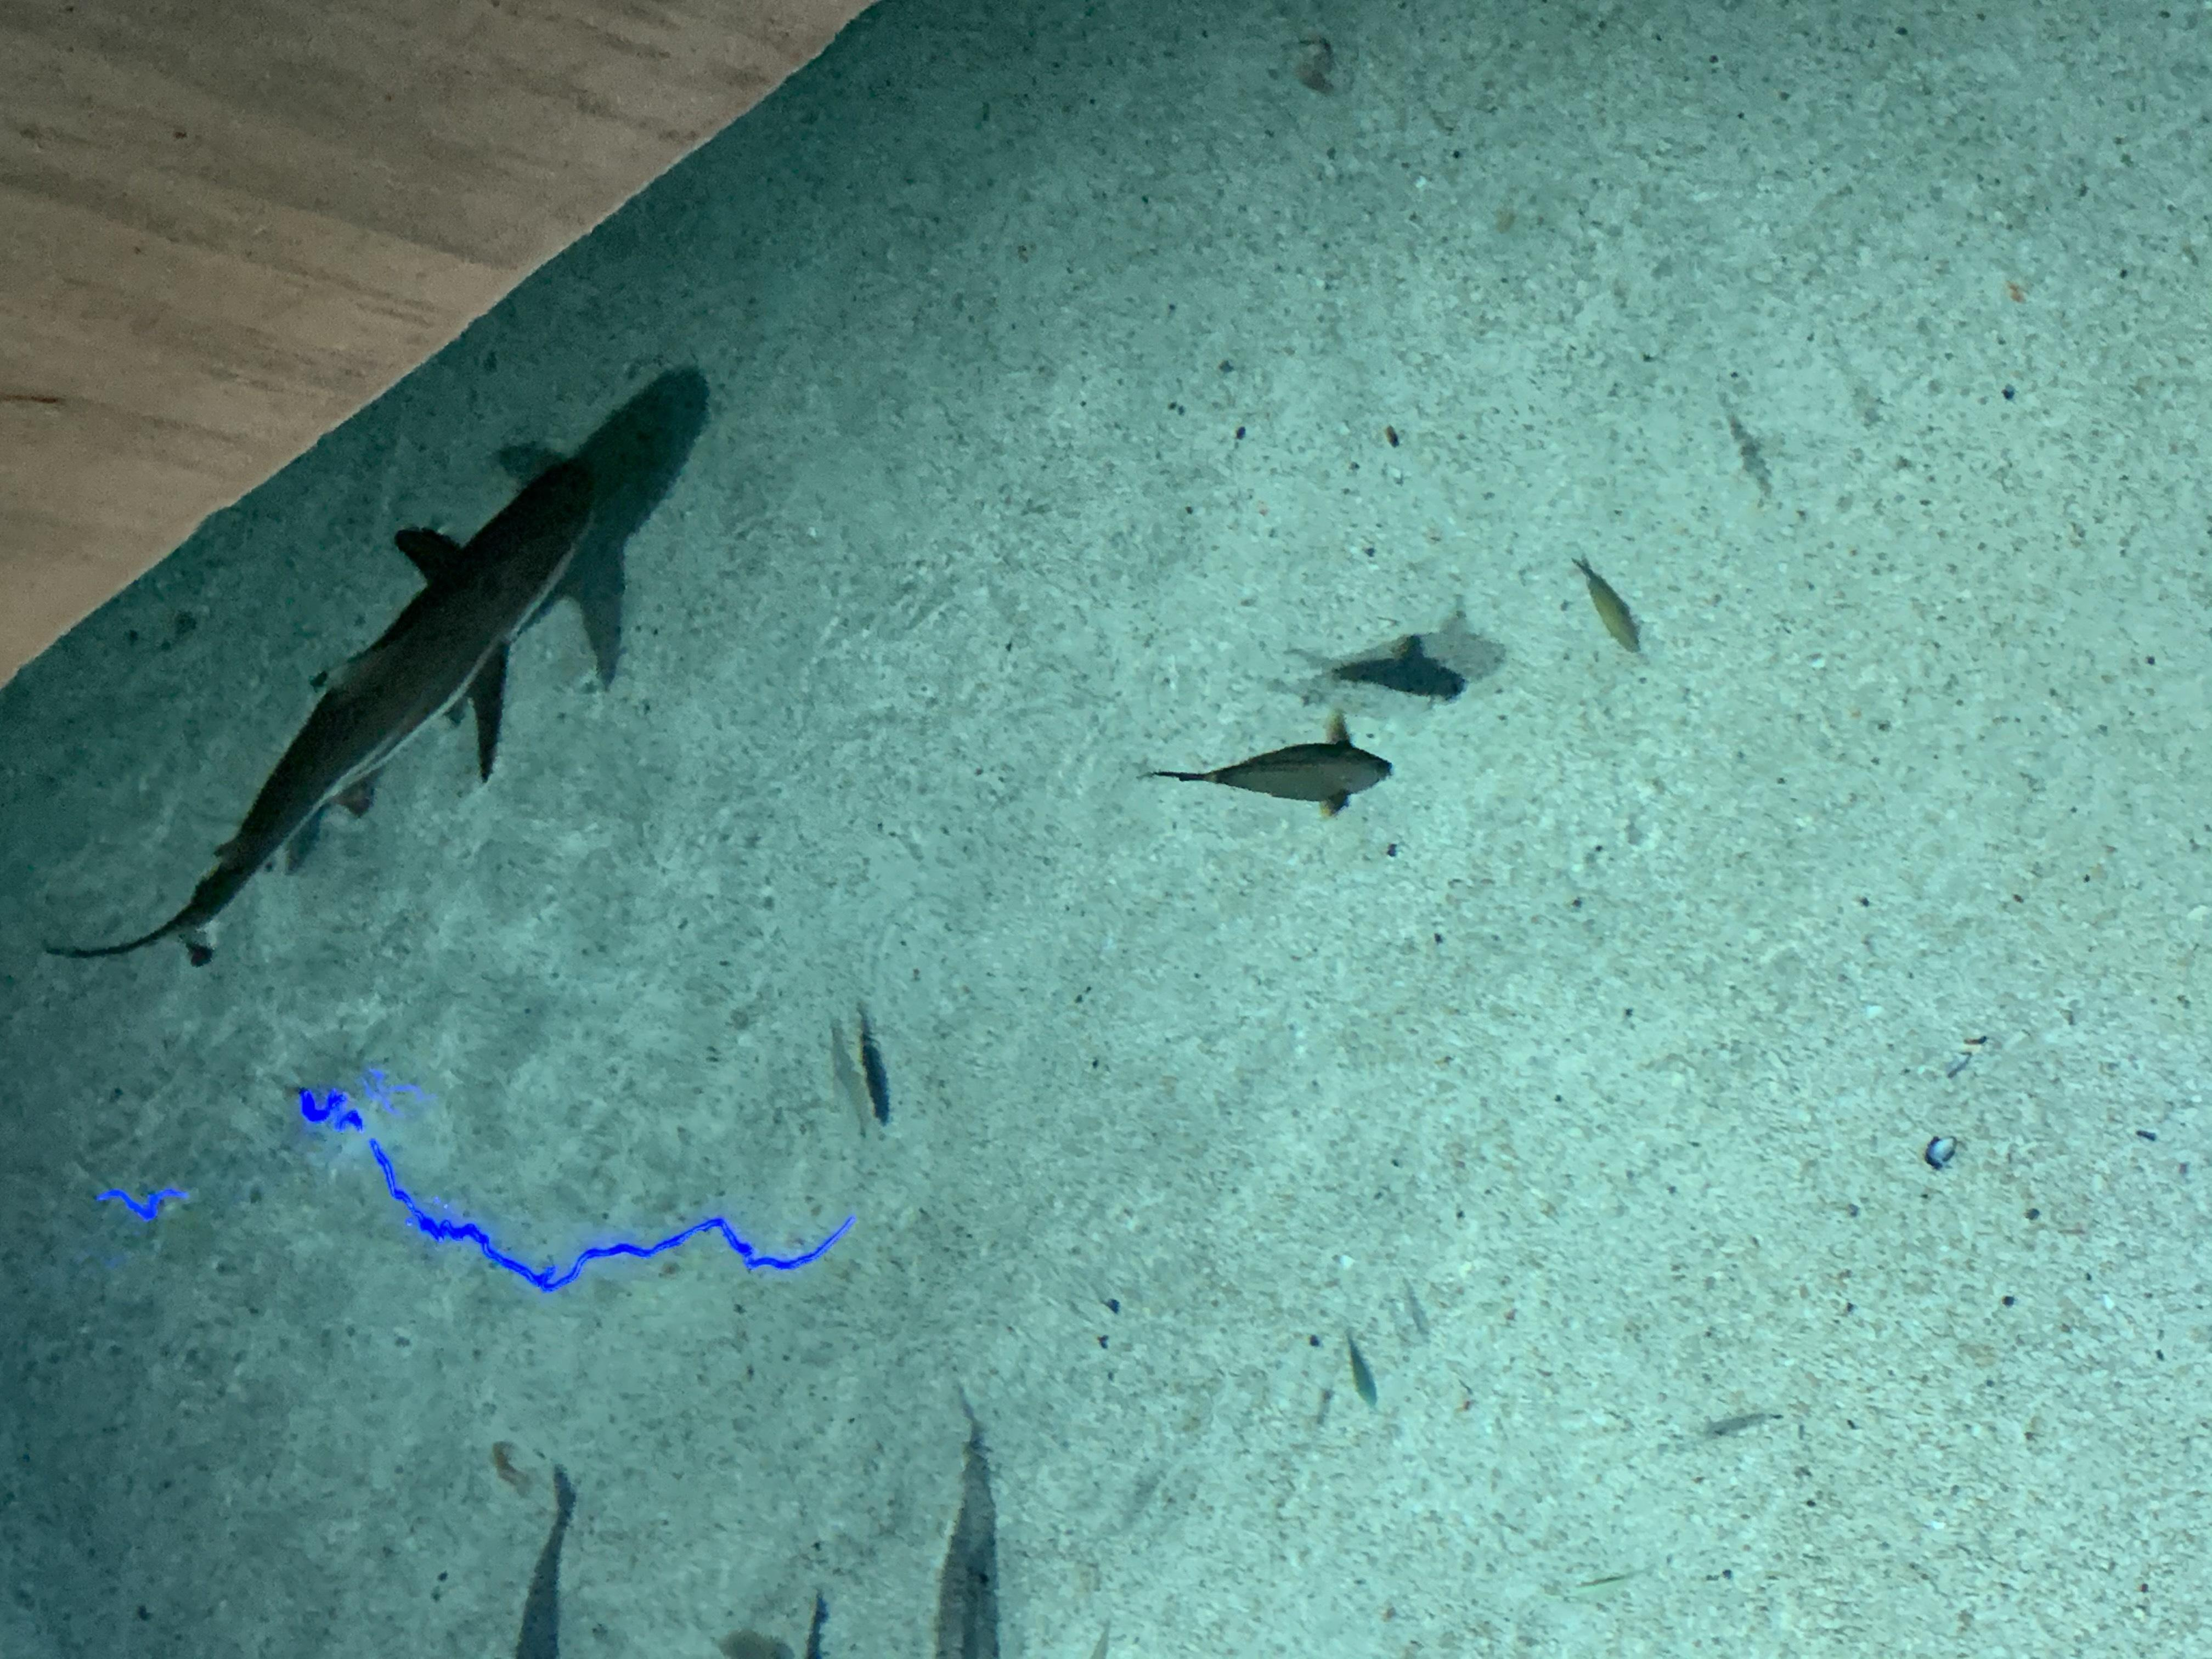fish: (1136, 737, 1392, 830), (927, 1396, 1014, 1656), (496, 1466, 597, 1659), (1306, 636, 1474, 711), (834, 1002, 909, 1150), (1566, 554, 1656, 662), (1719, 389, 1791, 504), (1334, 1324, 1390, 1420), (803, 1584, 836, 1659)
shark: (181, 437, 606, 922)
